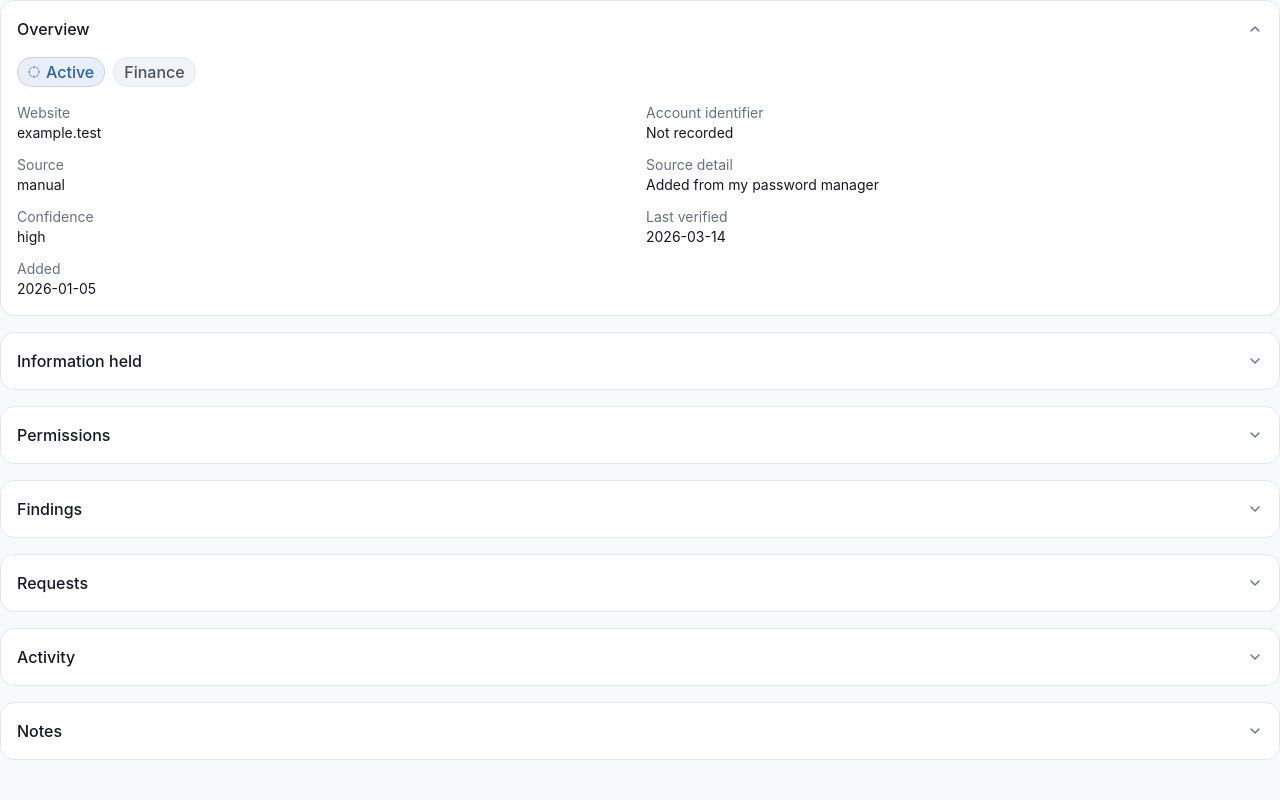
Test: the findings section › says no *open* findings, never that there were none
Click the heading "Findings": (50, 509) [17,499,1263,519]
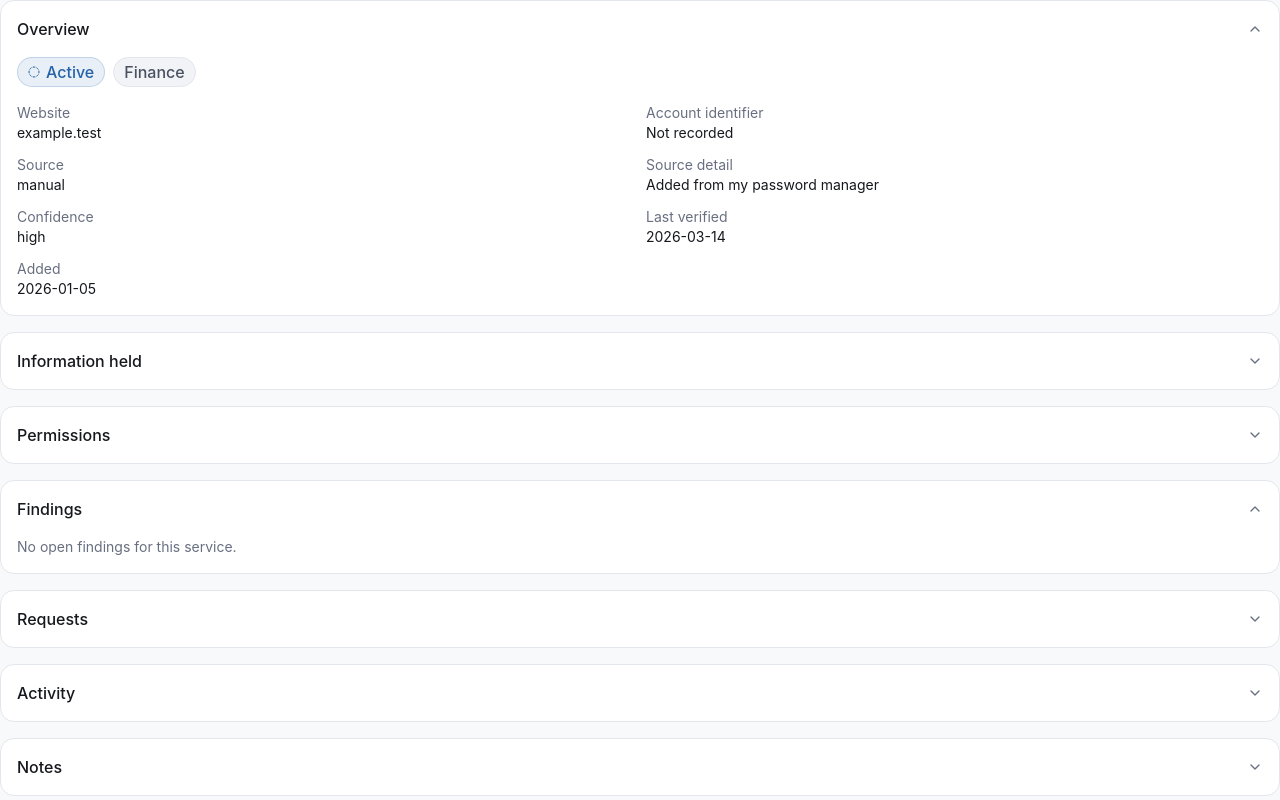
Check: the text "No open findings for this service." is shown, box [17,538,237,555]
